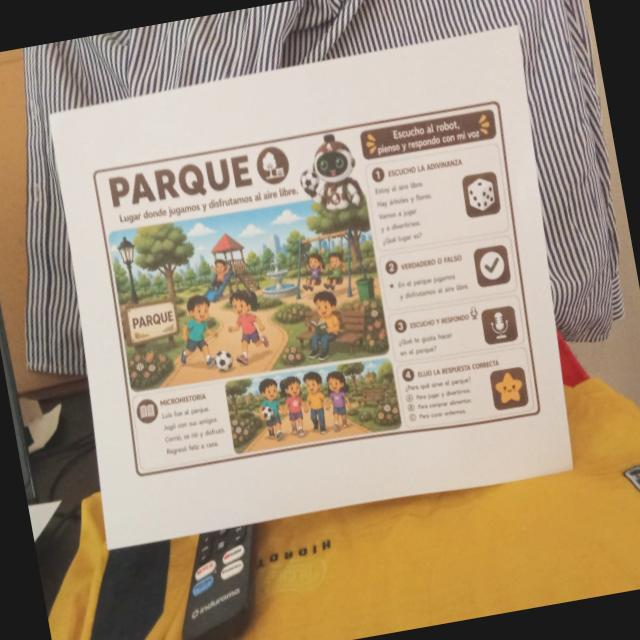parque: (80, 93, 558, 490)
